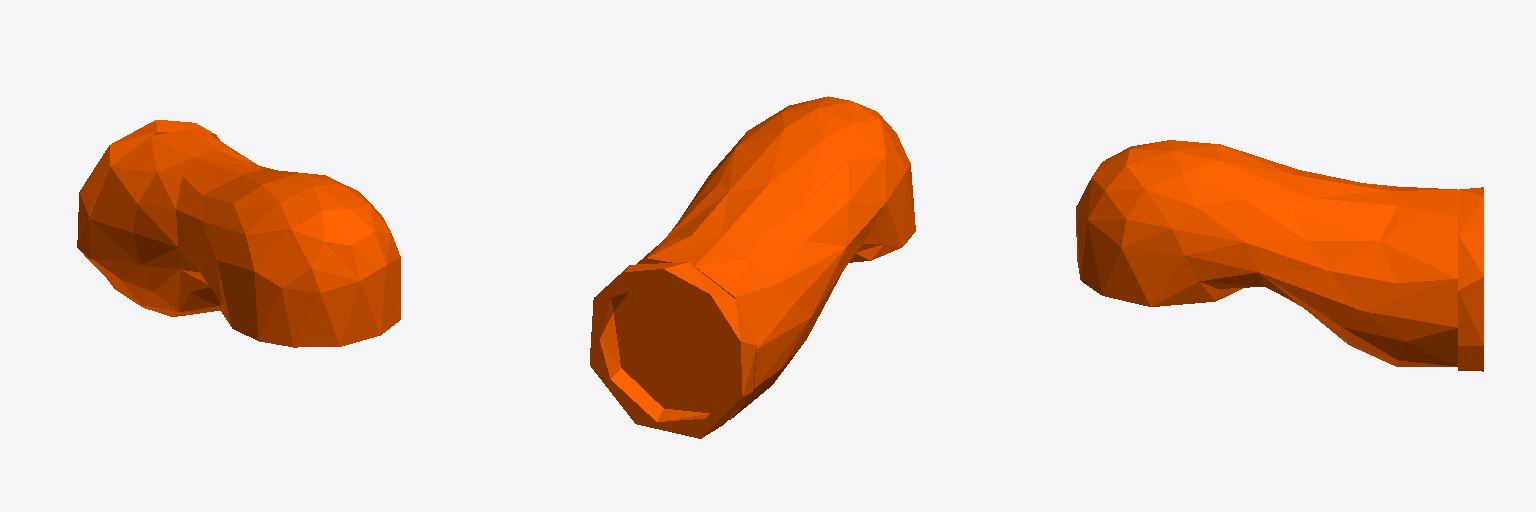
3 views of the same model, side by side, from view 1: azimuth 30°, elevation 25°; view 2: azimuth 150°, elevation 25°; view 3: azimuth 270°, elevation 25° (orthographic).
Parts seen in each view (by area): view 1: link4_object.005; view 2: link4_object.005; view 3: link4_object.005.
Boxes of the visible parts, box(x1,y1,x2,y2) form: link4_object.005: box(77, 120, 400, 347); link4_object.005: box(590, 96, 915, 438); link4_object.005: box(1076, 140, 1483, 371).
Bounding box in the file's own units: 0.1207 × 0.1559 × 0.2691.